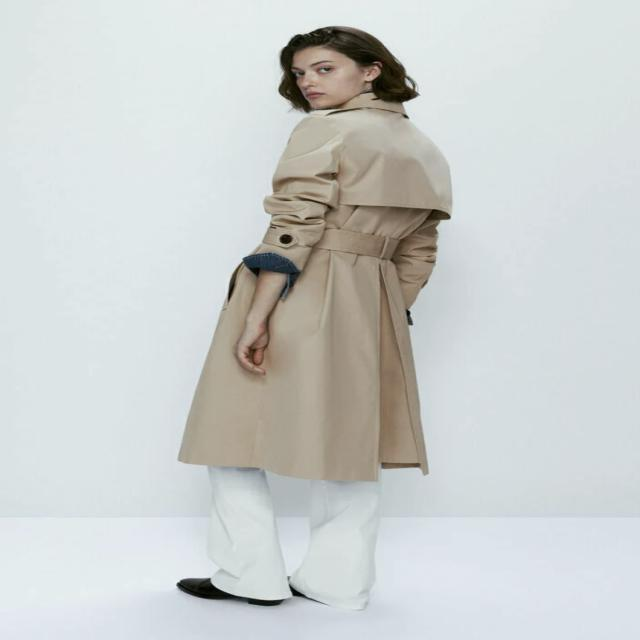coat: (168, 89, 459, 475)
trousers: (203, 465, 384, 614)
